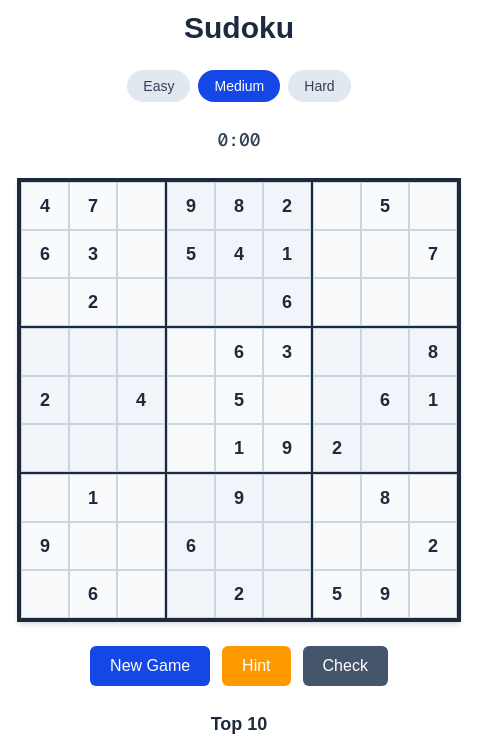
it: SudokuGame › fills and locks a cell when Hint is clicked, then blocks further hints
Click the button "Hint" at (256, 666), box x1=222 y1=646 x2=291 y2=686
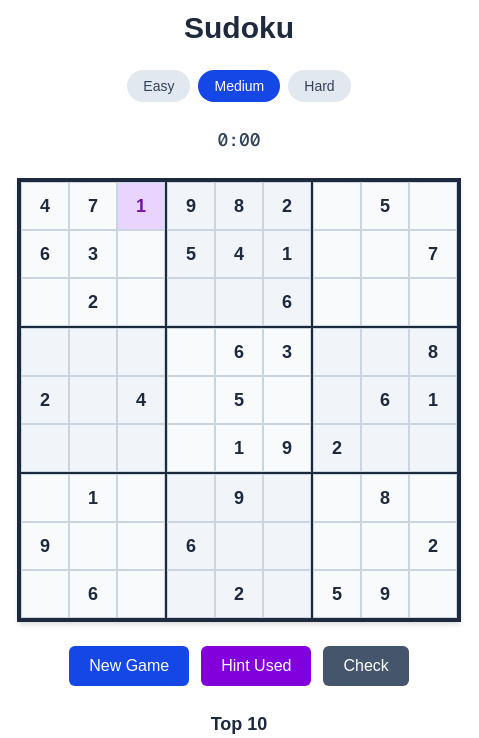
Expected: the button "Hint Used" is disabled, x1=201 y1=646 x2=312 y2=686
